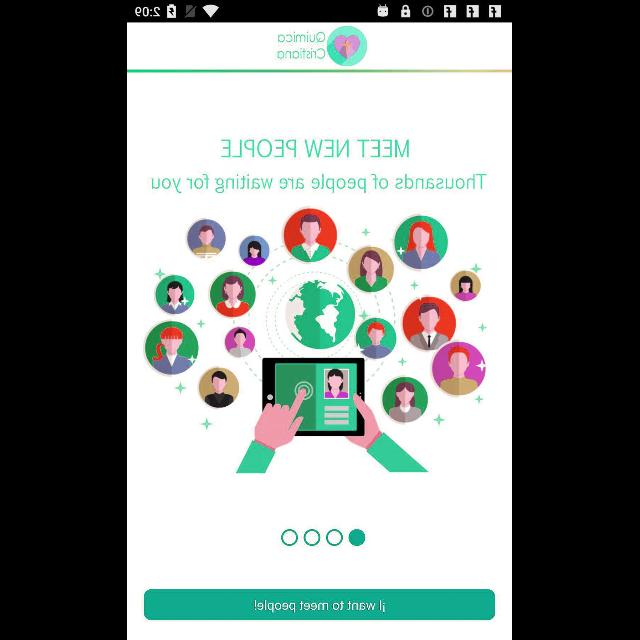image: (147, 205, 493, 472), (279, 26, 369, 66)
pageindicator: (282, 528, 366, 548)
text: (152, 173, 488, 194), (220, 140, 410, 158)
textbutton: (144, 589, 496, 621)
uppertaskbar: (128, 1, 512, 23)
